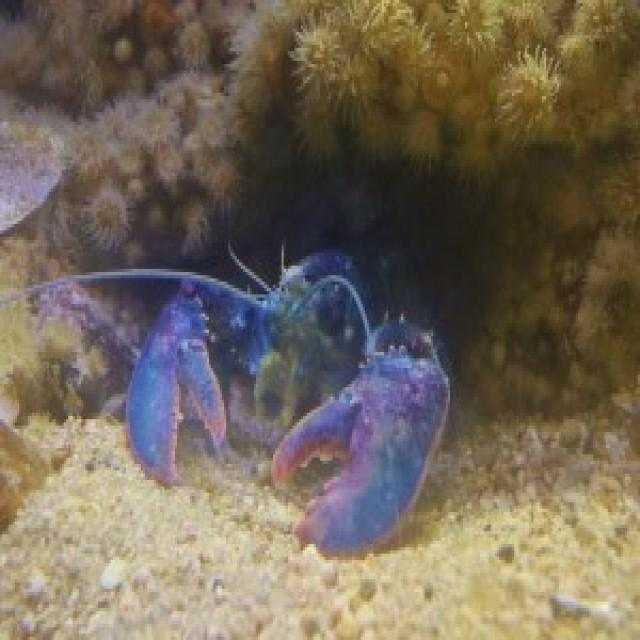lobsters: (127, 94, 481, 621)
